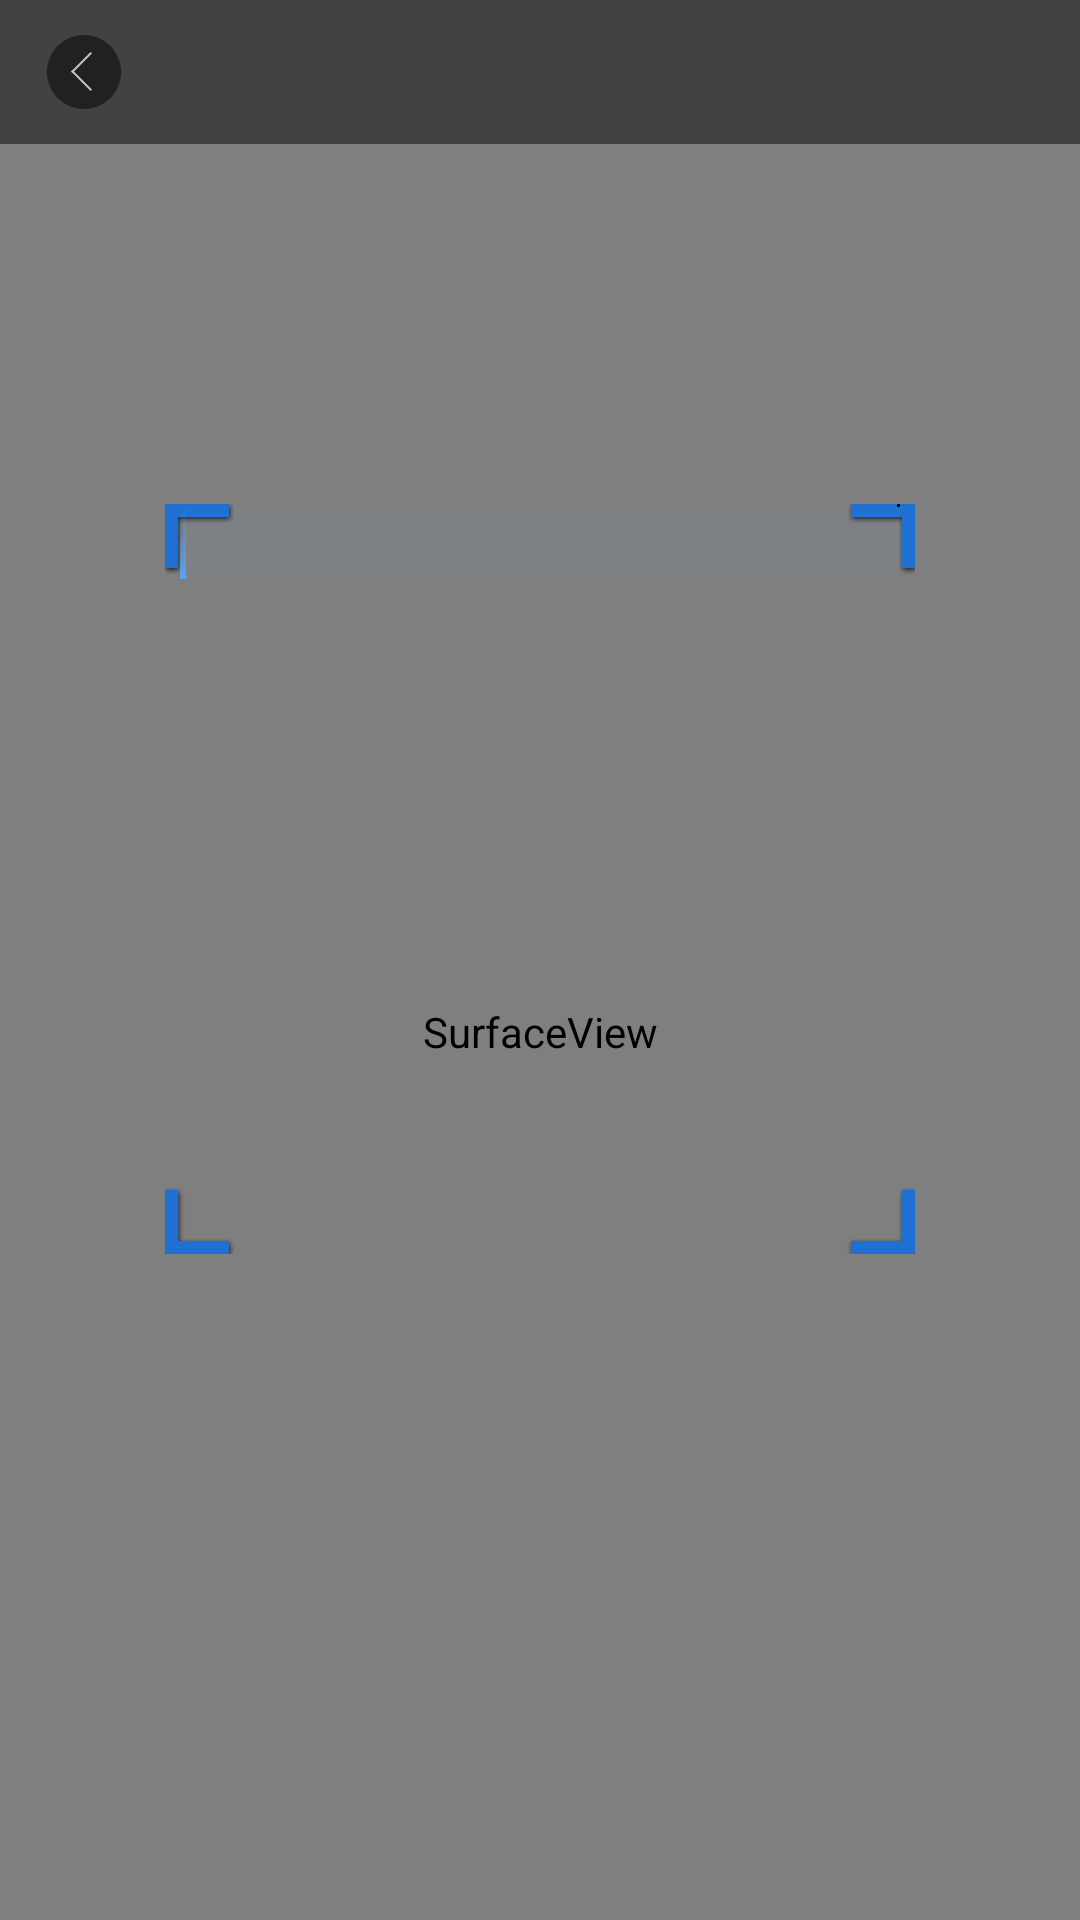

Where icons sit on this 1080*1920 app screen, as {"left": x1, "top": y1, "right": x2, "bottom": y2}:
scan left bot: {"left": 165, "top": 1190, "right": 232, "bottom": 1254}
scan left top: {"left": 165, "top": 504, "right": 232, "bottom": 578}
scan right bot: {"left": 850, "top": 1190, "right": 915, "bottom": 1254}
scan right top: {"left": 850, "top": 504, "right": 915, "bottom": 572}
